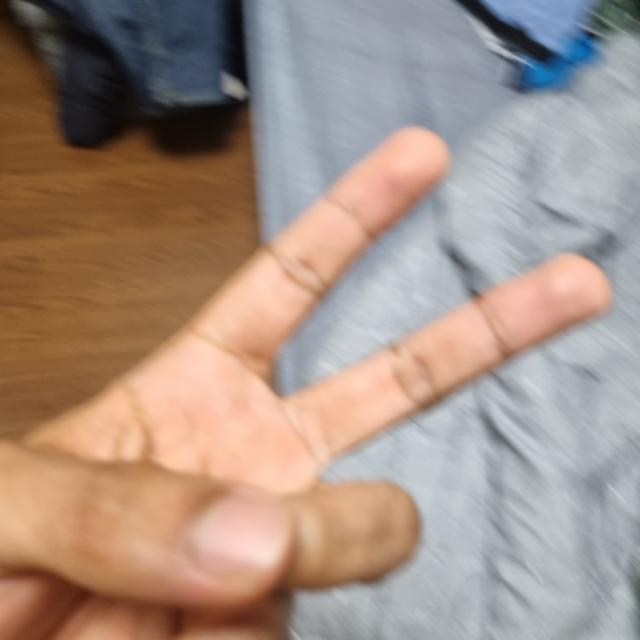Scissors: (0, 132, 603, 638)
